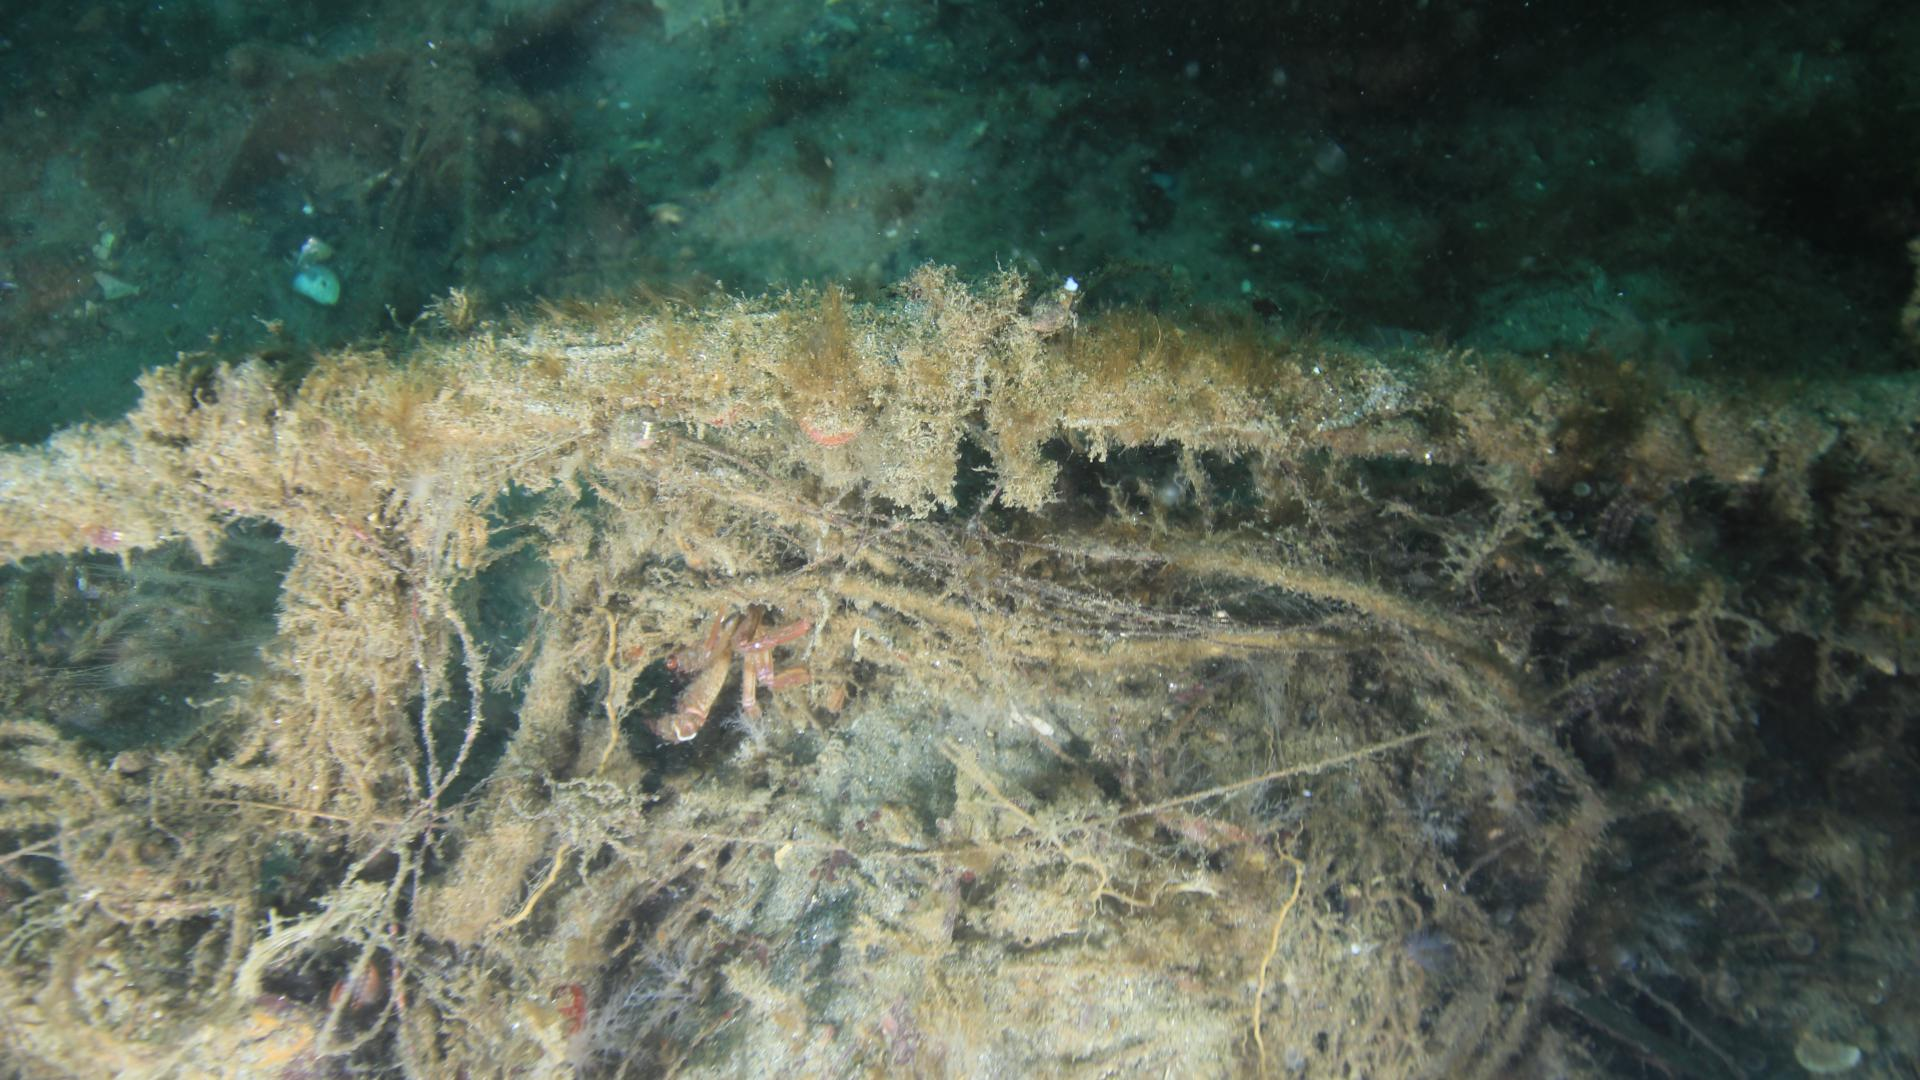rope: (0, 293, 1920, 571)
